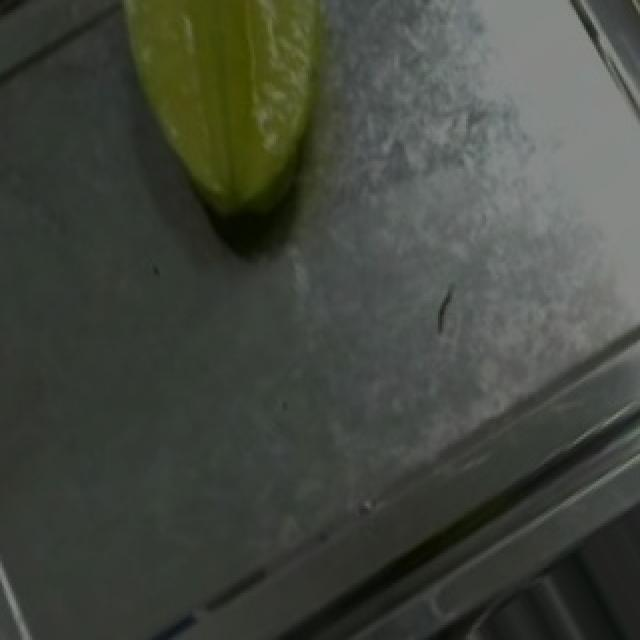fruit: (54, 0, 388, 253)
